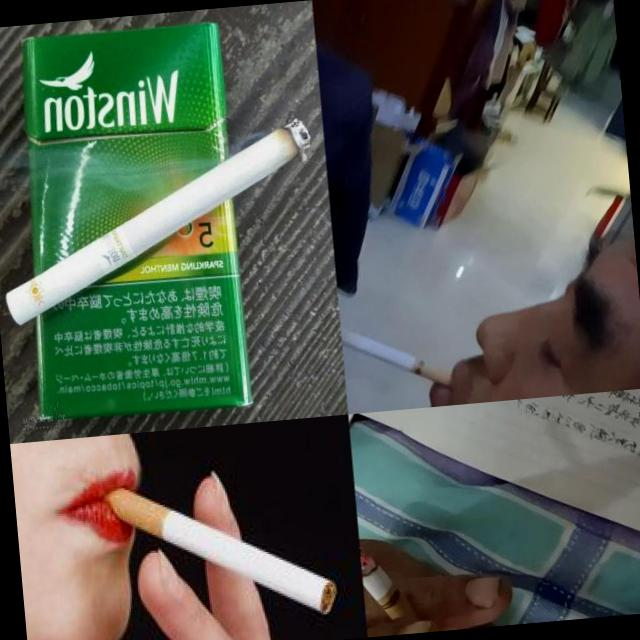cigarette: (0, 116, 325, 326), (98, 466, 340, 634), (340, 307, 454, 396), (360, 537, 438, 637)
